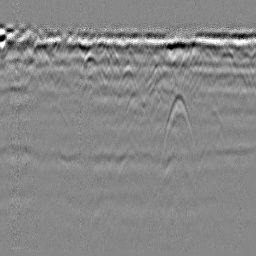cavity: (117, 63, 139, 93)
